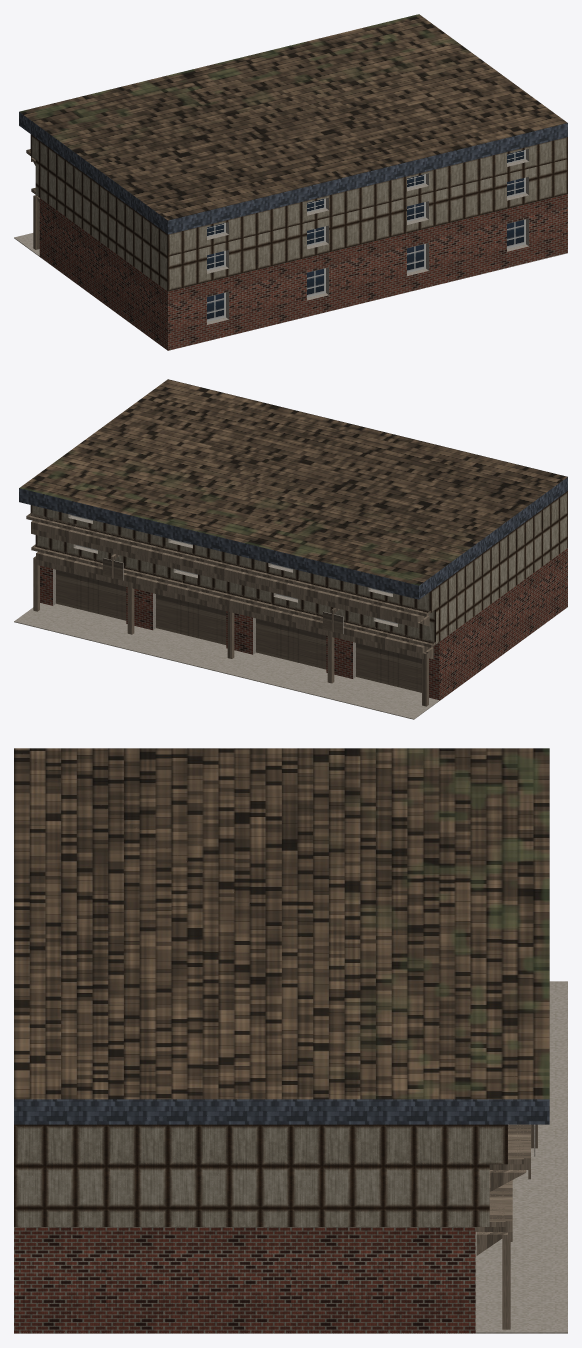
File: bldg-row-shop.glb
The picture shows the model from 3 angles, top to bottom: view 1: azimuth 30°, elevation 25°; view 2: azimuth 150°, elevation 25°; view 3: azimuth 270°, elevation 25°; orthographic projection. The views are drawn at different scales.
Visible parts, largest first — view 1: bldg-row-shop; view 2: bldg-row-shop; view 3: bldg-row-shop.
Part boxes in pixels (<box>): bldg-row-shop: <box>14,14,567,350</box>; bldg-row-shop: <box>14,379,567,719</box>; bldg-row-shop: <box>14,748,567,1333</box>.
Bounding box in the file's own units: 18 × 5.6 × 12.
Materials: 8 (8 with a texture image).
